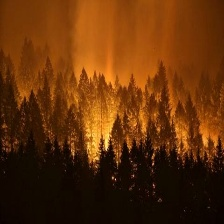fire: (88, 130, 111, 154)
smoke: (4, 2, 224, 92)
